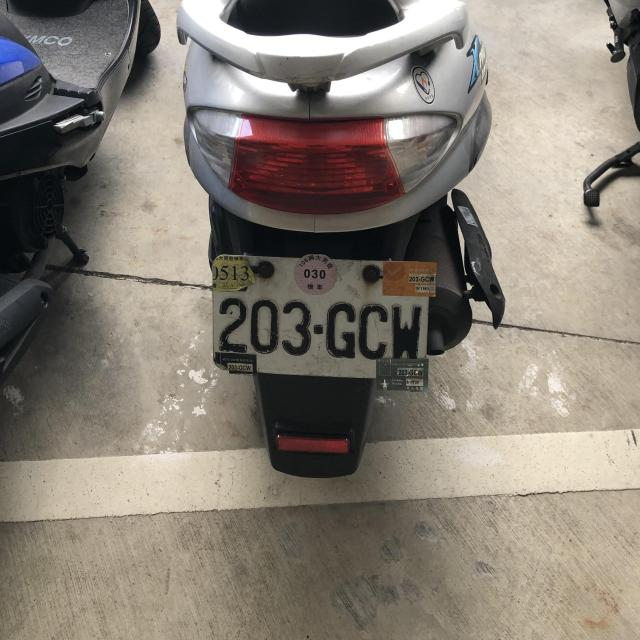W: (213, 251, 436, 380)
